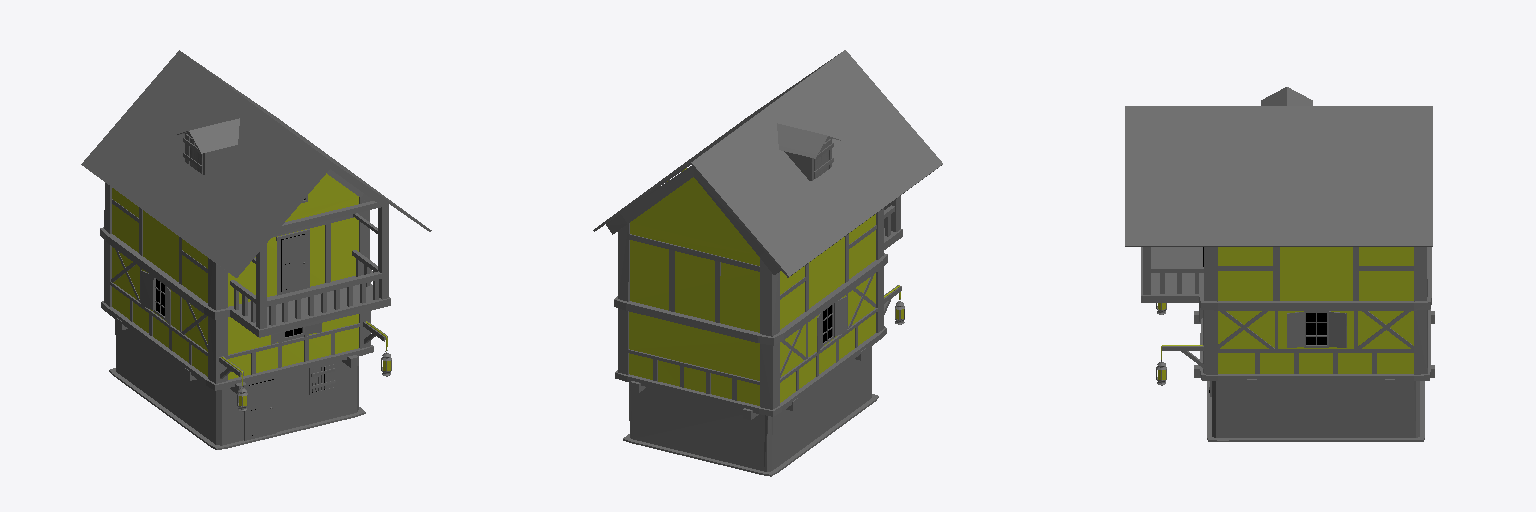
The model's file is house.obj.
The picture shows the model from 3 angles: view 1: azimuth 30°, elevation 25°; view 2: azimuth 150°, elevation 25°; view 3: azimuth 270°, elevation 25°; orthographic projection.
Parts seen in each view (by area): view 1: Plane001_Untitled; view 2: Plane001_Untitled; view 3: Plane001_Untitled.
Boxes of the visible parts, x1,y1,x2,y2 form: Plane001_Untitled: [81, 50, 431, 449]; Plane001_Untitled: [593, 50, 942, 476]; Plane001_Untitled: [1125, 87, 1434, 441].
Size of the model in its own units: 2.29 by 3.34 by 3.13.